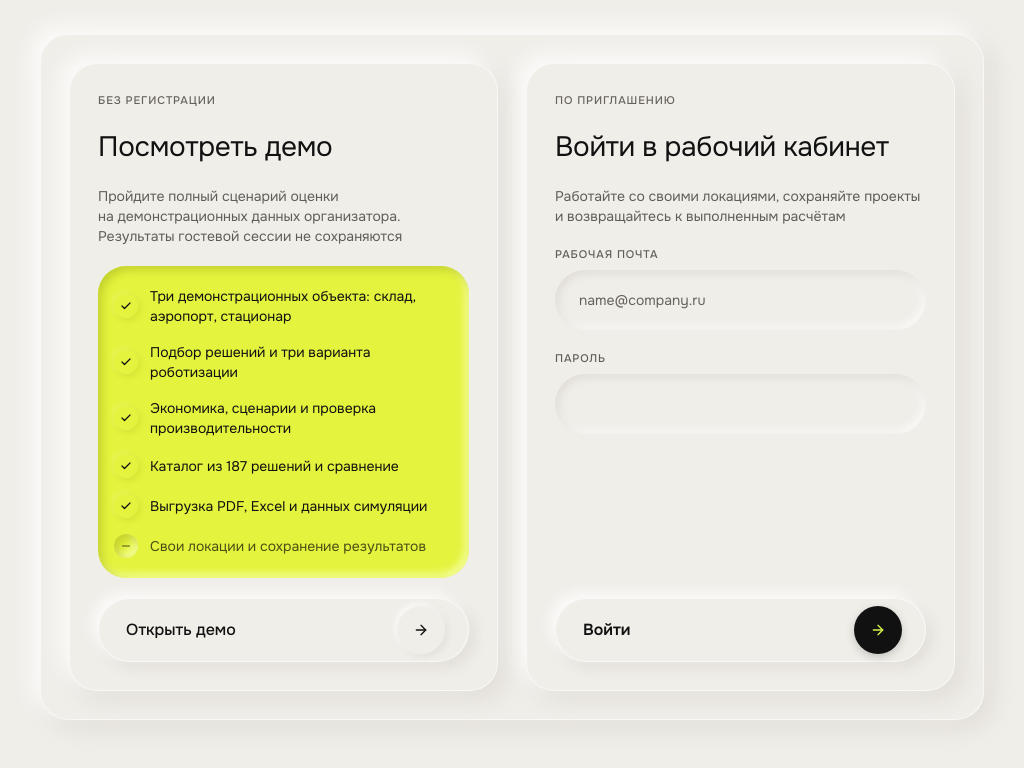
LoginPage (экран 05) › asks to fill the form before signing in
(page scrolled)
Click the button "Войти" at (607, 630), box [555,598,926,662]
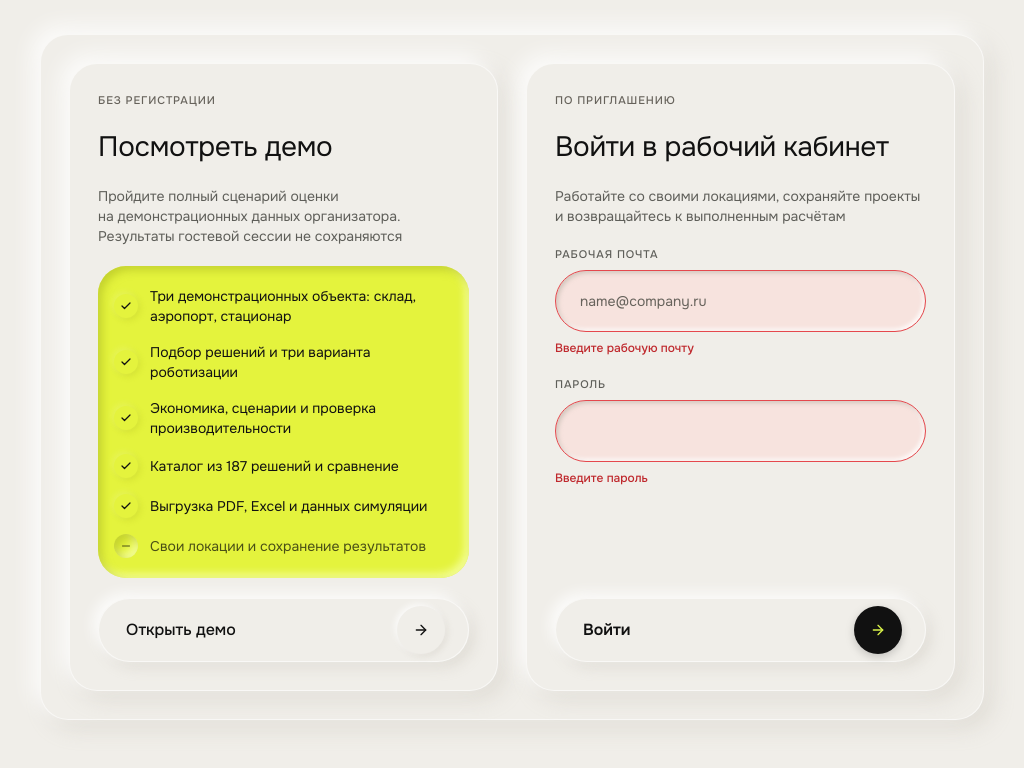
Expected: the text "Введите рабочую почту" is shown, [555,340,694,356]
Expected: the text "Введите пароль" is shown, [555,470,648,486]
